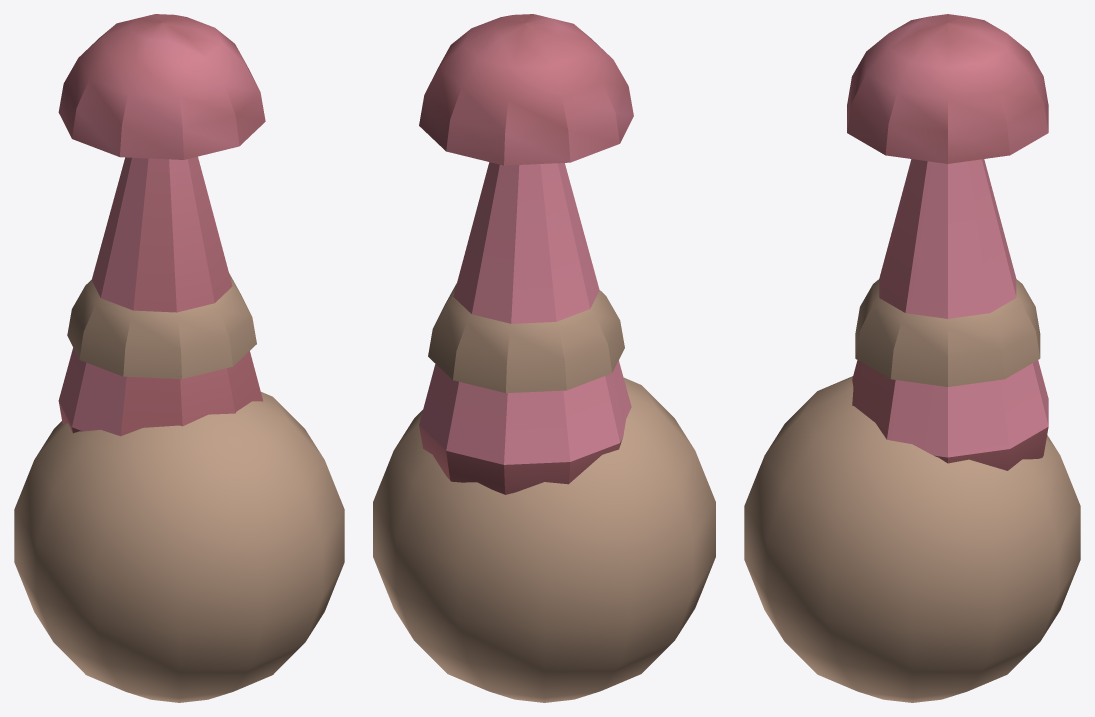
File: girl-wizard-armL.glb
The picture shows the model from 3 angles, left to right: view 1: azimuth 30°, elevation 25°; view 2: azimuth 150°, elevation 25°; view 3: azimuth 270°, elevation 25°; orthographic projection. The views are drawn at different scales.
Visible parts, largest first — view 1: player_girl-wizard:armL; view 2: player_girl-wizard:armL; view 3: player_girl-wizard:armL.
Boxes of the visible parts, x1=… form: player_girl-wizard:armL: x1=14, y1=14, x2=344, y2=702; player_girl-wizard:armL: x1=373, y1=14, x2=715, y2=702; player_girl-wizard:armL: x1=744, y1=14, x2=1080, y2=702.
Size of the model in its own units: 0.1142 by 0.249 by 0.1142.
